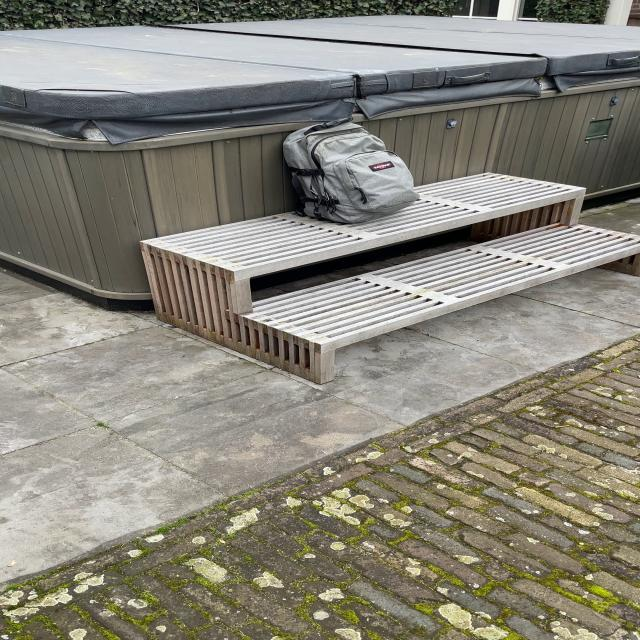backpack: (273, 116, 424, 225)
